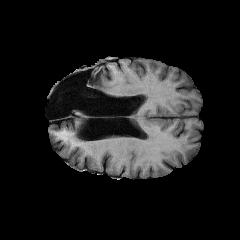glioma: (54, 67, 113, 103)
